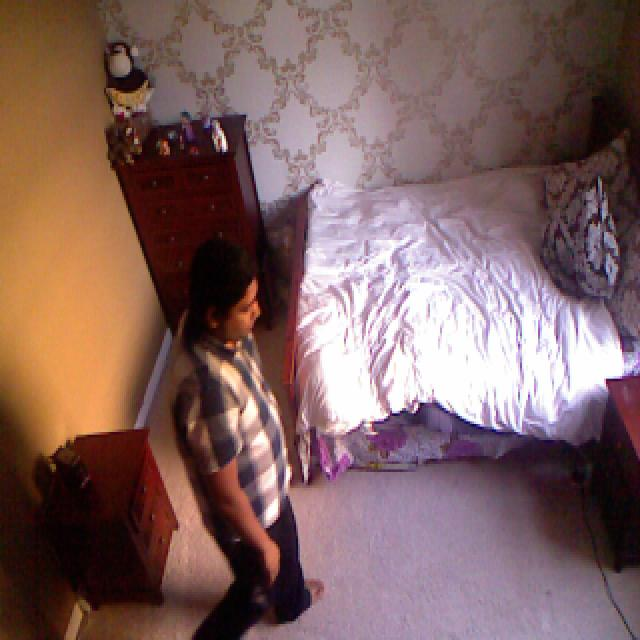standing: (164, 237, 326, 640)
